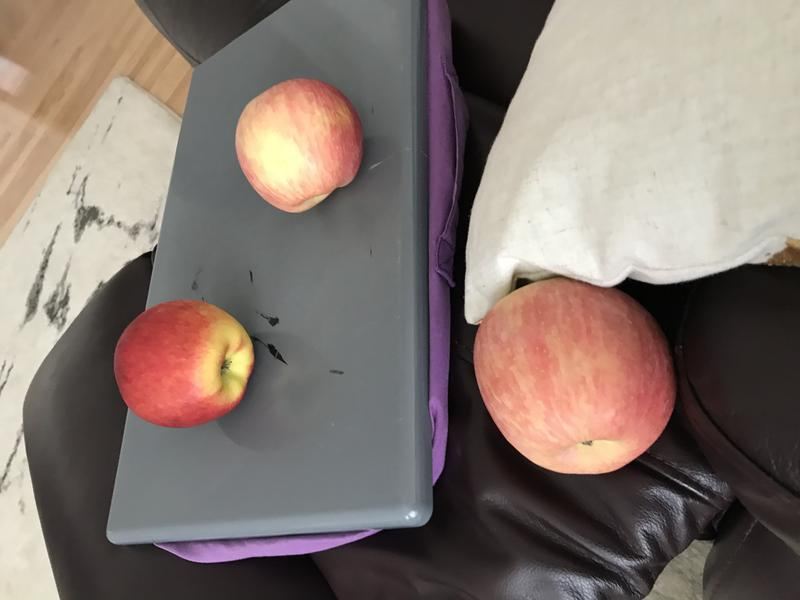red_apple: (468, 269, 687, 485), (100, 288, 260, 434), (231, 73, 372, 218)
